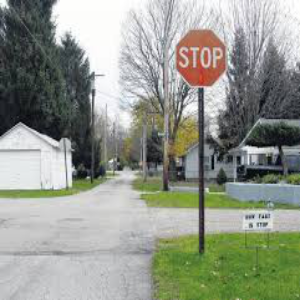STOP_SIGN: (174, 27, 227, 87)
